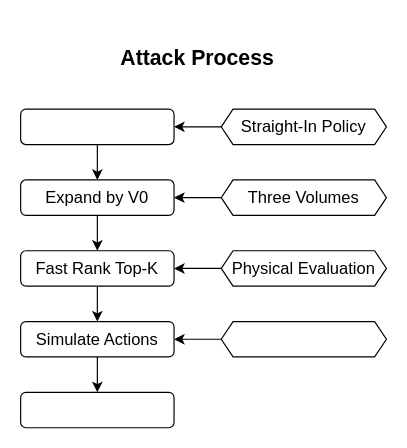
The diagram is 407 pixels wide and 448 high, and some of its shapes have lost their labels. Each missing label, with the centre of its shape:
"Choose Best Score" belongs at point 96,409.
"Poolenv Evaluation" belongs at point 303,338.
"Select Candidates" belongs at point 96,126.
